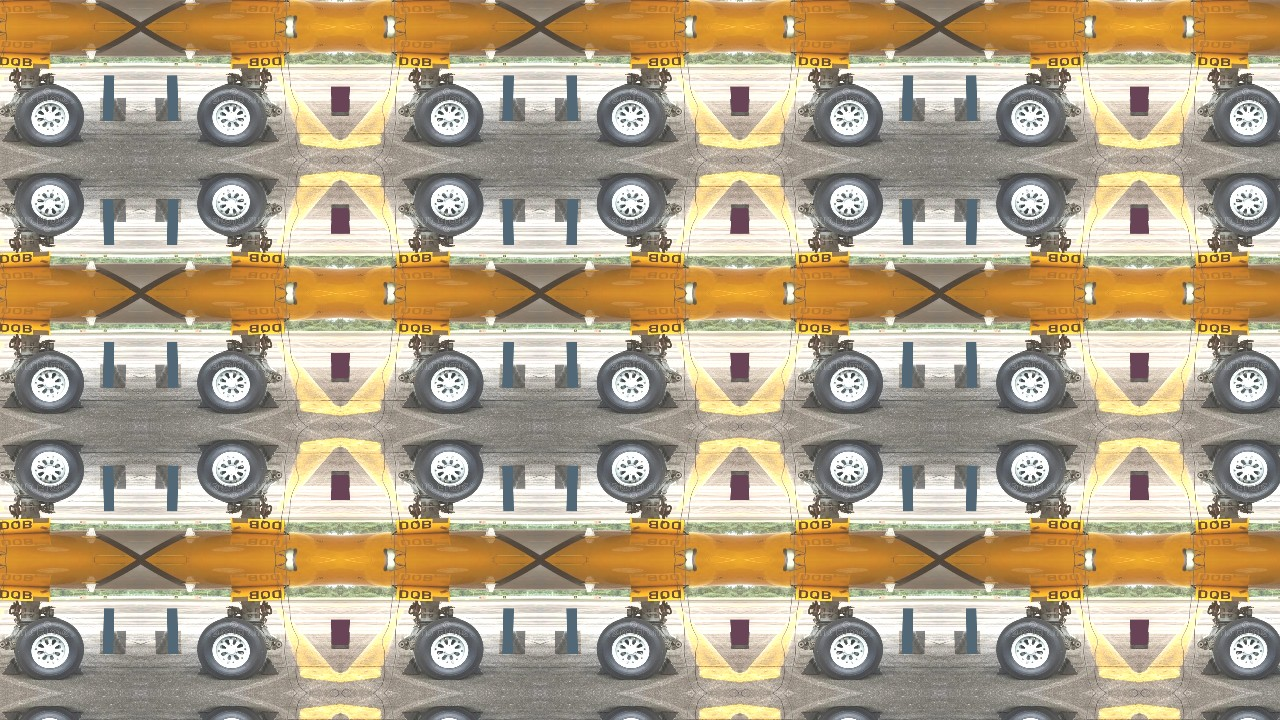chock: (99, 97, 125, 121), (155, 97, 181, 121), (499, 97, 525, 121), (555, 97, 581, 121), (899, 97, 925, 121), (955, 97, 981, 121), (99, 198, 125, 222), (155, 198, 181, 222), (499, 198, 525, 222), (555, 198, 581, 222), (899, 198, 925, 222), (955, 198, 981, 222), (99, 364, 125, 388), (155, 364, 181, 388), (499, 364, 525, 388), (555, 364, 581, 388), (899, 364, 925, 388), (955, 364, 981, 388), (99, 465, 125, 489), (155, 465, 181, 489), (499, 465, 525, 489), (555, 465, 581, 489), (899, 465, 925, 489), (955, 465, 981, 489), (99, 631, 125, 655), (155, 631, 181, 655), (499, 631, 525, 655), (555, 631, 581, 655), (899, 631, 925, 655), (955, 631, 981, 655), (1, 178, 22, 197), (258, 178, 279, 197), (401, 178, 422, 197), (658, 178, 679, 197), (801, 178, 822, 197), (1058, 178, 1079, 197), (1201, 178, 1222, 197), (1, 445, 22, 464), (258, 445, 279, 464), (401, 445, 422, 464), (658, 445, 679, 464), (801, 445, 822, 464), (1058, 445, 1079, 464), (1201, 445, 1222, 464), (1, 123, 22, 141), (258, 123, 279, 141), (401, 123, 422, 141), (658, 123, 679, 141), (801, 123, 822, 141), (1058, 123, 1079, 141), (1201, 123, 1222, 141), (1, 390, 22, 408), (258, 390, 279, 408), (401, 390, 422, 408), (658, 390, 679, 408), (801, 390, 822, 408), (1058, 390, 1079, 408), (1201, 390, 1222, 408), (1, 657, 22, 675), (258, 657, 279, 675), (401, 657, 422, 675), (658, 657, 679, 675), (801, 657, 822, 675), (1058, 657, 1079, 675), (1201, 657, 1222, 675), (330, 98, 340, 115), (340, 98, 350, 115), (730, 98, 740, 115), (740, 98, 750, 115), (1130, 98, 1140, 115), (1140, 98, 1150, 115), (330, 204, 340, 221), (340, 204, 350, 221), (730, 204, 740, 221), (740, 204, 750, 221), (1130, 204, 1140, 221), (1140, 204, 1150, 221), (330, 365, 340, 382), (340, 365, 350, 382), (730, 365, 740, 382), (740, 365, 750, 382), (1130, 365, 1140, 382), (1140, 365, 1150, 382), (330, 471, 340, 488), (340, 471, 350, 488), (730, 471, 740, 488), (740, 471, 750, 488), (1130, 471, 1140, 488), (1140, 471, 1150, 488), (330, 632, 340, 649), (340, 632, 350, 649), (730, 632, 740, 649), (740, 632, 750, 649), (1130, 632, 1140, 649), (1140, 632, 1150, 649), (1, 712, 22, 720), (258, 712, 279, 720), (401, 712, 422, 720), (658, 712, 679, 720), (801, 712, 822, 720), (1058, 712, 1079, 720), (1201, 712, 1222, 720)
wheel: (11, 83, 83, 147), (197, 83, 269, 147), (411, 83, 483, 147), (597, 83, 669, 147), (811, 83, 883, 147), (997, 83, 1069, 147), (11, 173, 83, 237), (197, 173, 269, 237), (411, 173, 483, 237), (597, 173, 669, 237), (811, 173, 883, 237), (997, 173, 1069, 237), (11, 350, 83, 414), (197, 350, 269, 414), (411, 350, 483, 414), (597, 350, 669, 414), (811, 350, 883, 414), (997, 350, 1069, 414), (11, 440, 83, 504), (197, 440, 269, 504), (411, 440, 483, 504), (597, 440, 669, 504), (811, 440, 883, 504), (997, 440, 1069, 504), (11, 617, 83, 681), (197, 617, 269, 681), (411, 617, 483, 681), (597, 617, 669, 681), (811, 617, 883, 681), (997, 617, 1069, 681), (1211, 83, 1280, 147), (1211, 173, 1280, 237), (1211, 350, 1280, 414), (1211, 440, 1280, 504), (1211, 617, 1280, 681), (11, 707, 83, 720), (197, 707, 269, 720), (411, 707, 483, 720), (597, 707, 669, 720), (811, 707, 883, 720), (997, 707, 1069, 720), (1211, 707, 1280, 720)
